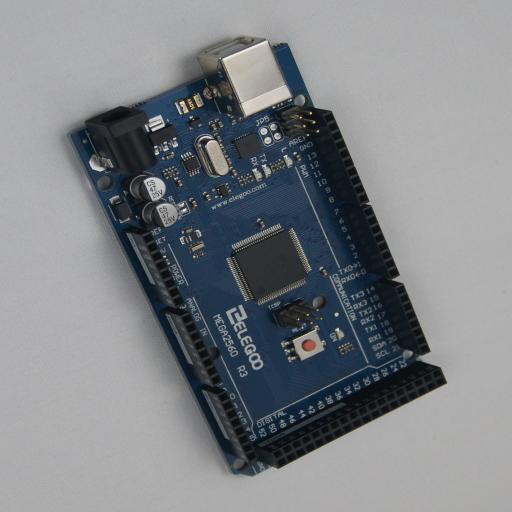Arduino Mega 2560 -Blue-: (67, 37, 447, 476)
